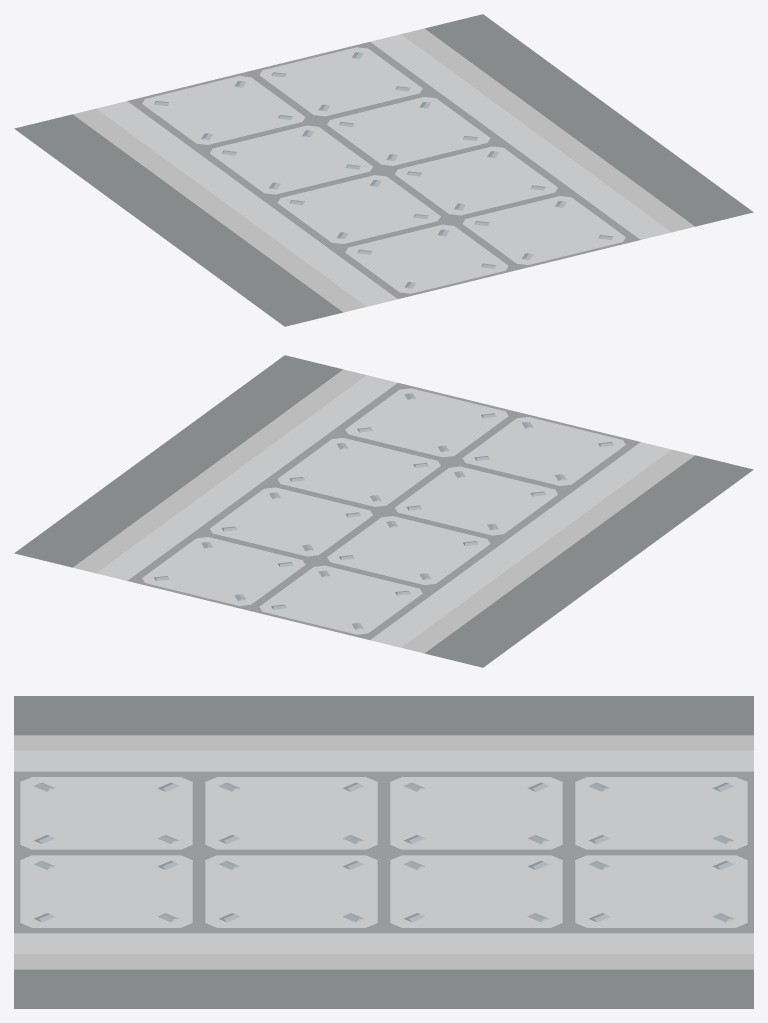
File: Floor_type_A_007.001.fbx
3 views of the same model, one above another, from view 1: azimuth 30°, elevation 25°; view 2: azimuth 150°, elevation 25°; view 3: azimuth 270°, elevation 25° (orthographic). The views are drawn at different scales.
Visible parts, largest first — view 1: Floor_type_A_007.001; view 2: Floor_type_A_007.001; view 3: Floor_type_A_007.001.
Part boxes in pixels (left/top/right/bottom): Floor_type_A_007.001: left=14, top=14, right=753, bottom=326; Floor_type_A_007.001: left=14, top=355, right=753, bottom=667; Floor_type_A_007.001: left=14, top=696, right=753, bottom=1008.
Size of the model in its own units: 400 by 400 by 0.8.
